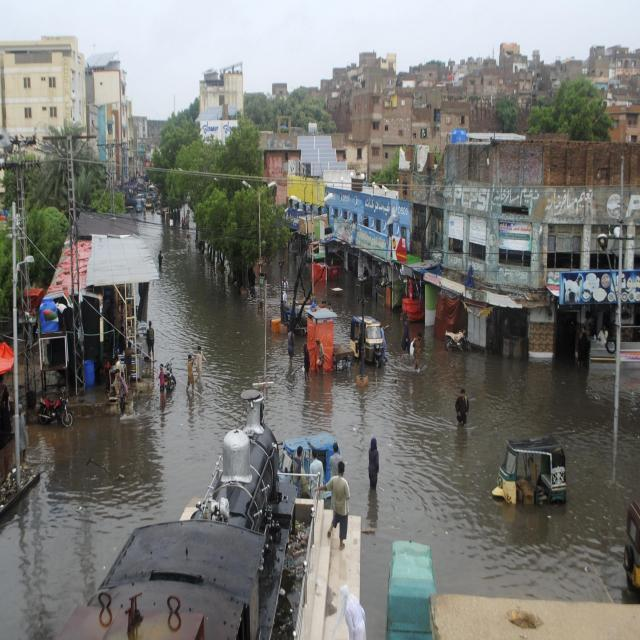flood: (267, 311, 640, 640), (0, 230, 262, 640)
house: (434, 180, 640, 284), (105, 523, 256, 640), (2, 34, 82, 146), (319, 186, 423, 262), (382, 536, 440, 640), (350, 91, 415, 152), (92, 62, 134, 146), (200, 67, 244, 141)
